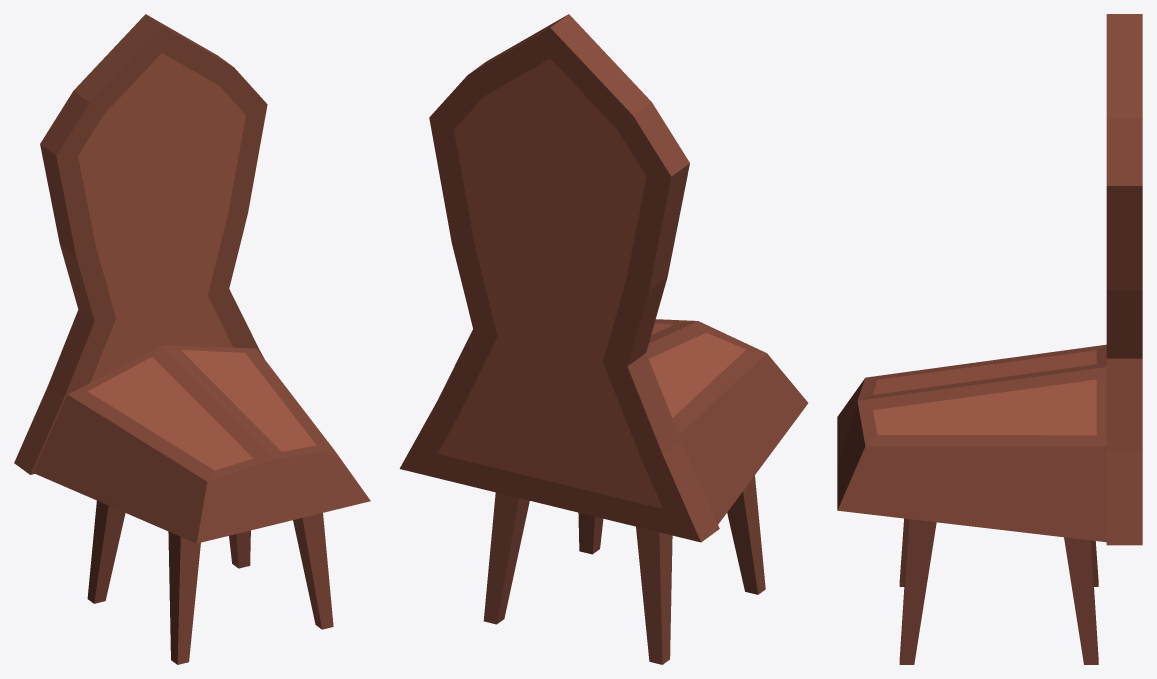
Rendered from Chair_5_Red.fbx.
The picture shows the model from 3 angles, left to right: view 1: azimuth 30°, elevation 25°; view 2: azimuth 150°, elevation 25°; view 3: azimuth 270°, elevation 25°; orthographic projection. The views are drawn at different scales.
Parts seen in each view (by area): view 1: Chair_5_Red_Part_1, Chair_5_Red_Part_2; view 2: Chair_5_Red_Part_1, Chair_5_Red_Part_2; view 3: Chair_5_Red_Part_1, Chair_5_Red_Part_2.
Boxes of the visible parts, left/top/right/bottom form: Chair_5_Red_Part_1: left=14, top=14, right=370, bottom=664; Chair_5_Red_Part_2: left=78, top=53, right=316, bottom=470; Chair_5_Red_Part_1: left=399, top=14, right=808, bottom=664; Chair_5_Red_Part_2: left=437, top=58, right=746, bottom=508; Chair_5_Red_Part_1: left=837, top=14, right=1142, bottom=664; Chair_5_Red_Part_2: left=873, top=350, right=1096, bottom=435.
Bounding box in the file's own units: 91.05 × 182 × 82.76.
